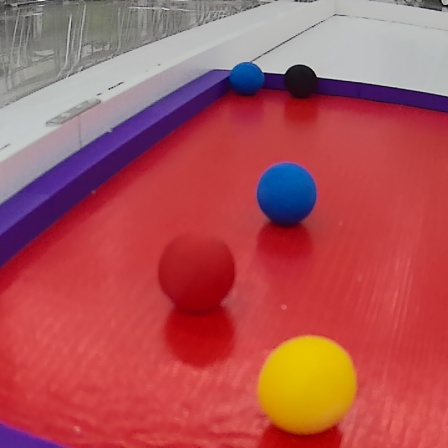black: (281, 62, 320, 100)
blue: (255, 160, 320, 228), (227, 62, 267, 97)
red: (159, 232, 237, 315)
red_aim: (3, 66, 448, 448)
yellow: (254, 332, 360, 437)
